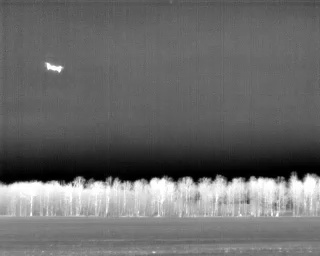DRONE: (40, 57, 67, 78)
